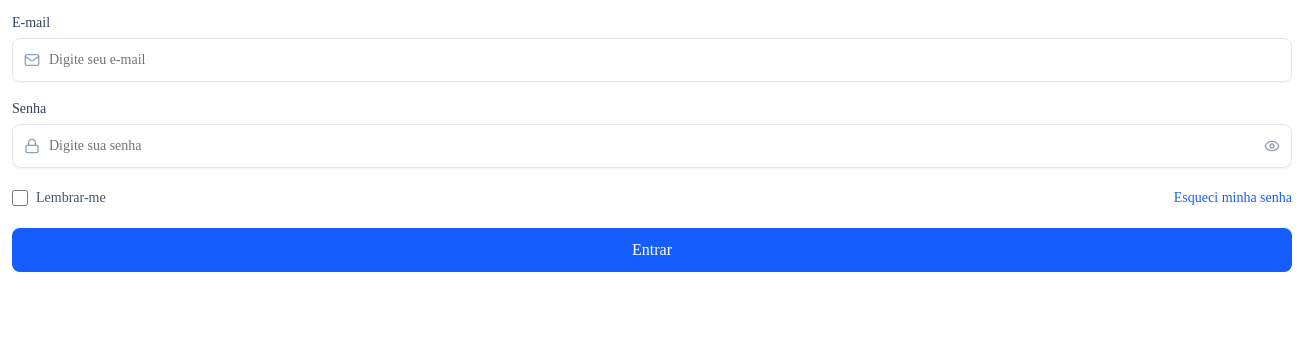
Scenario: LoginForm › mostra erro do servidor e reabilita o botão
The image size is (1304, 345).
Type "eng@empresa.com" into the field with placeholder "Digite seu e-mail" at x=652, y=60, box [12, 38, 1292, 82]
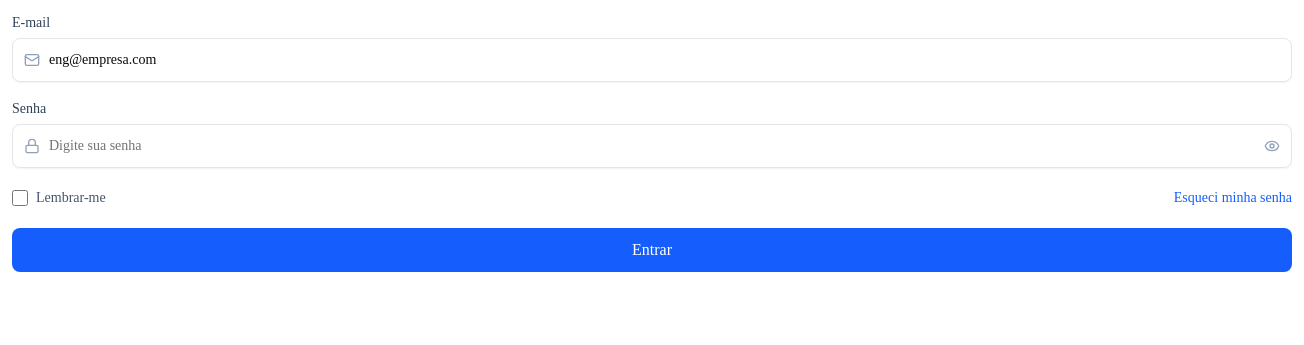
Type "errada" into the password field with placeholder "Digite sua senha" at x=652, y=146, box [12, 124, 1292, 168]
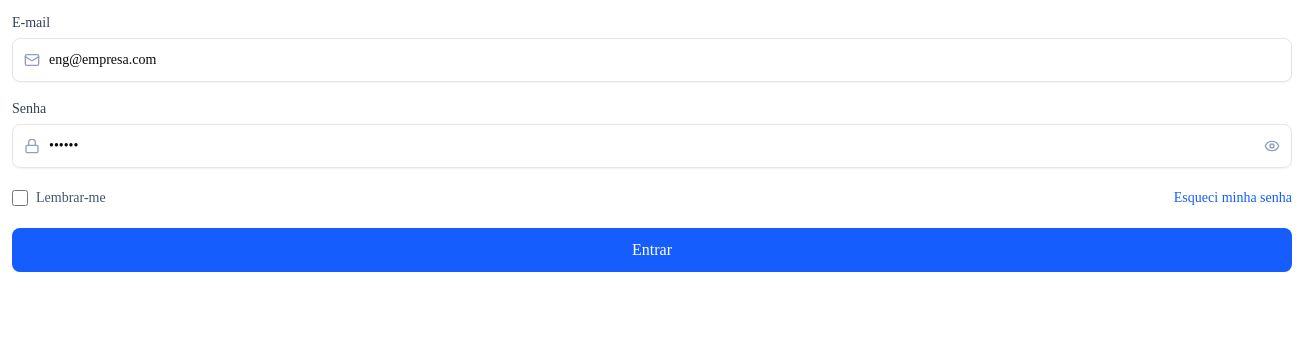
Submit the form "Entrar"
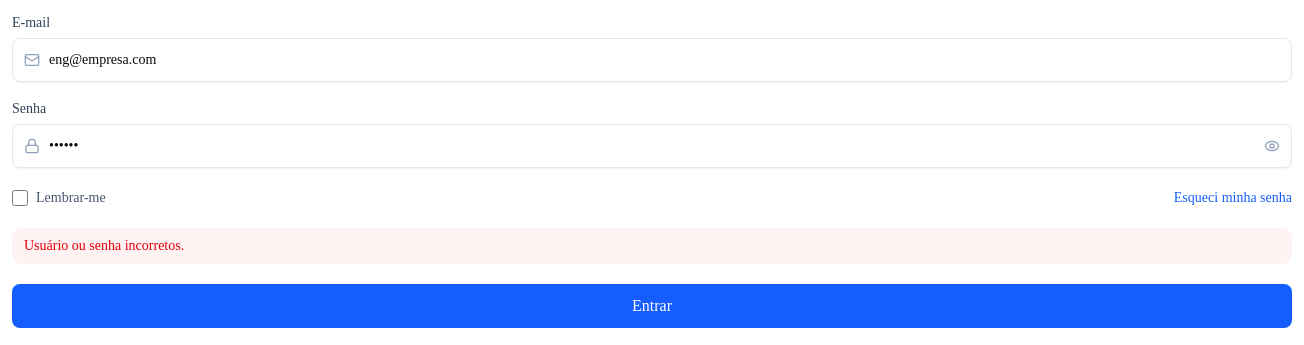
Expected: the button "Entrar" is enabled, [12, 284, 1292, 328]
Result: the text "Usuário ou senha incorretos." is shown at [12, 228, 1292, 264]
